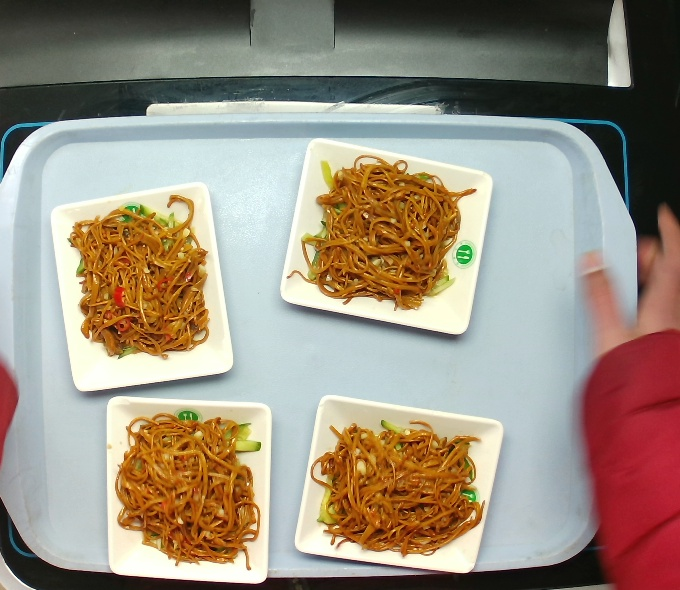wcq-LiangBanChongCaoHua: (301, 156, 477, 312), (310, 419, 486, 558), (67, 194, 210, 360), (114, 410, 261, 567)
